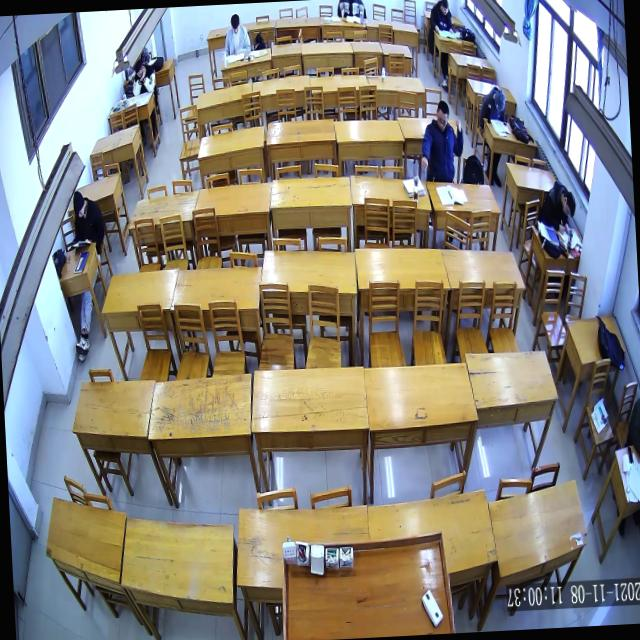down: (436, 184, 464, 207), (435, 100, 452, 134), (560, 190, 578, 222), (72, 190, 88, 222), (493, 88, 507, 115), (230, 13, 242, 36), (133, 59, 146, 80), (439, 0, 450, 17)
sit: (418, 98, 468, 184), (536, 176, 578, 238), (68, 188, 107, 254), (222, 12, 252, 59), (130, 58, 158, 98), (479, 84, 507, 123), (428, 0, 456, 37)
